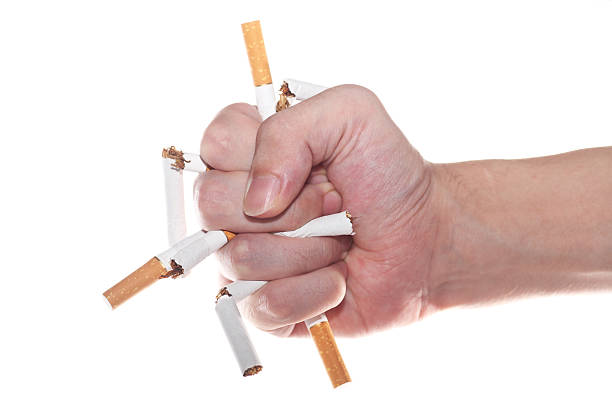cigarette: (100, 228, 209, 312), (213, 294, 265, 378), (302, 312, 353, 392), (240, 17, 279, 120), (158, 230, 238, 279), (159, 149, 189, 249), (269, 210, 357, 241), (213, 276, 272, 303), (279, 76, 331, 102), (168, 152, 216, 173)
